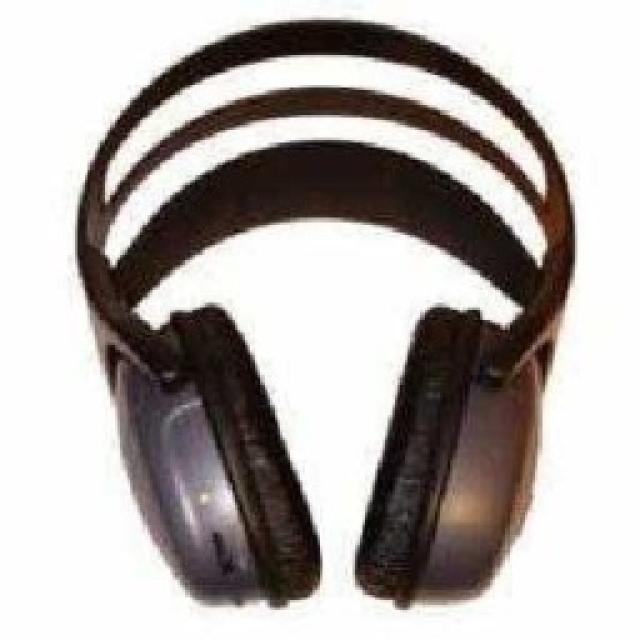kulaklik: (69, 14, 578, 614)
